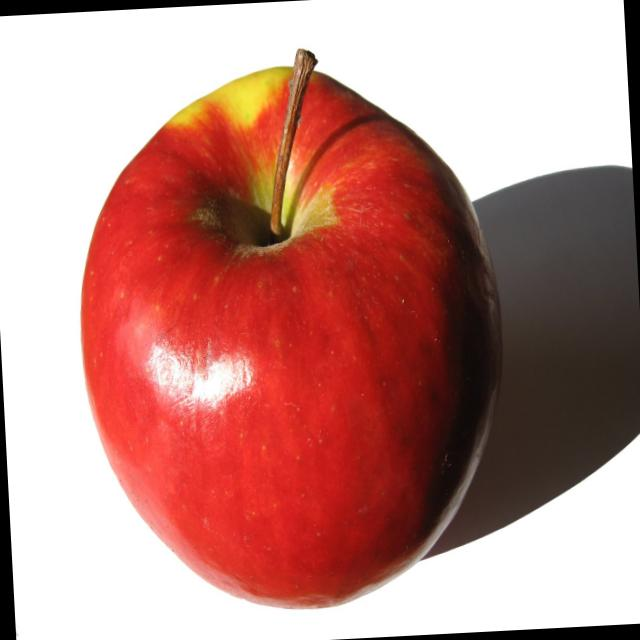apple: (49, 52, 520, 622)
